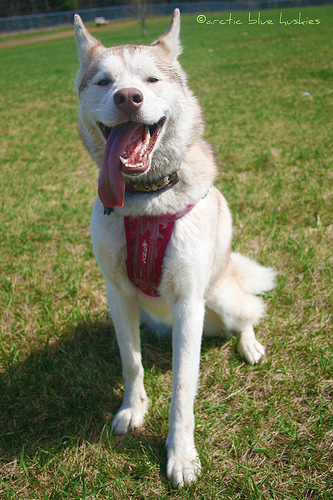dog: (67, 7, 280, 492)
